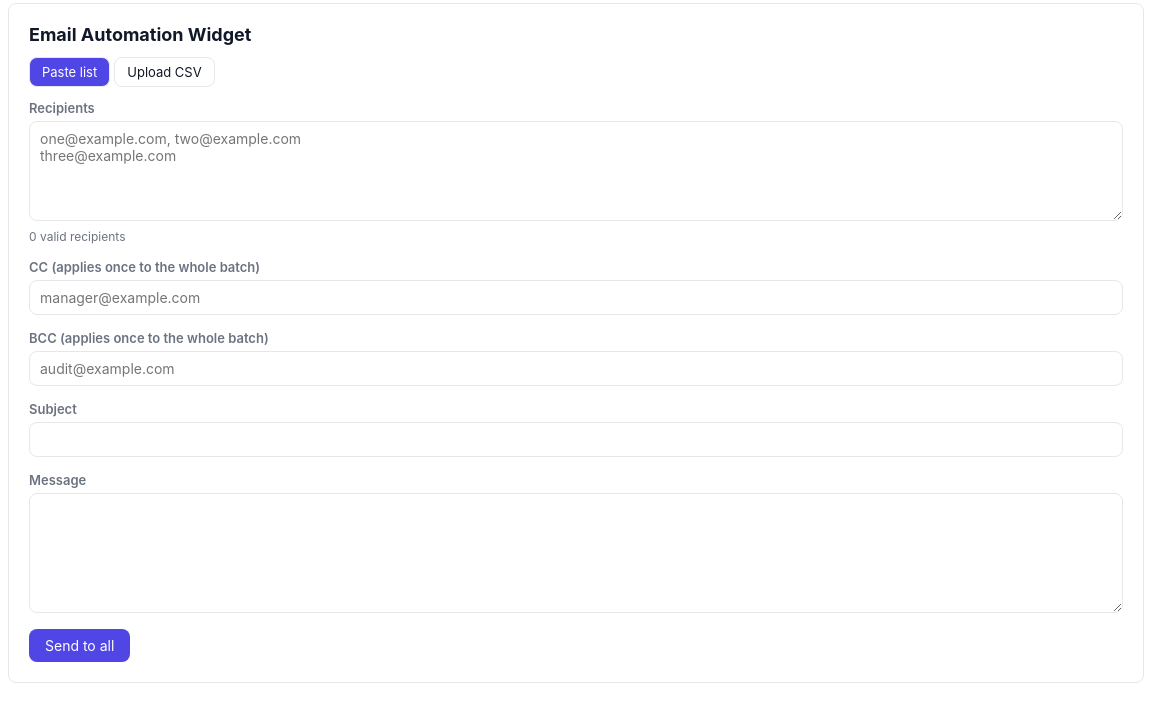
Scenario: EmailAutomationWidget (bulk mode) › shows a per-recipient error list for a partially-failed batch
The width and height of the screenshot is (1152, 715).
Type "a@x.com, b@x.com" into the text box labelled "Recipients". click: point(576, 171)
box: [29,121,1123,221]
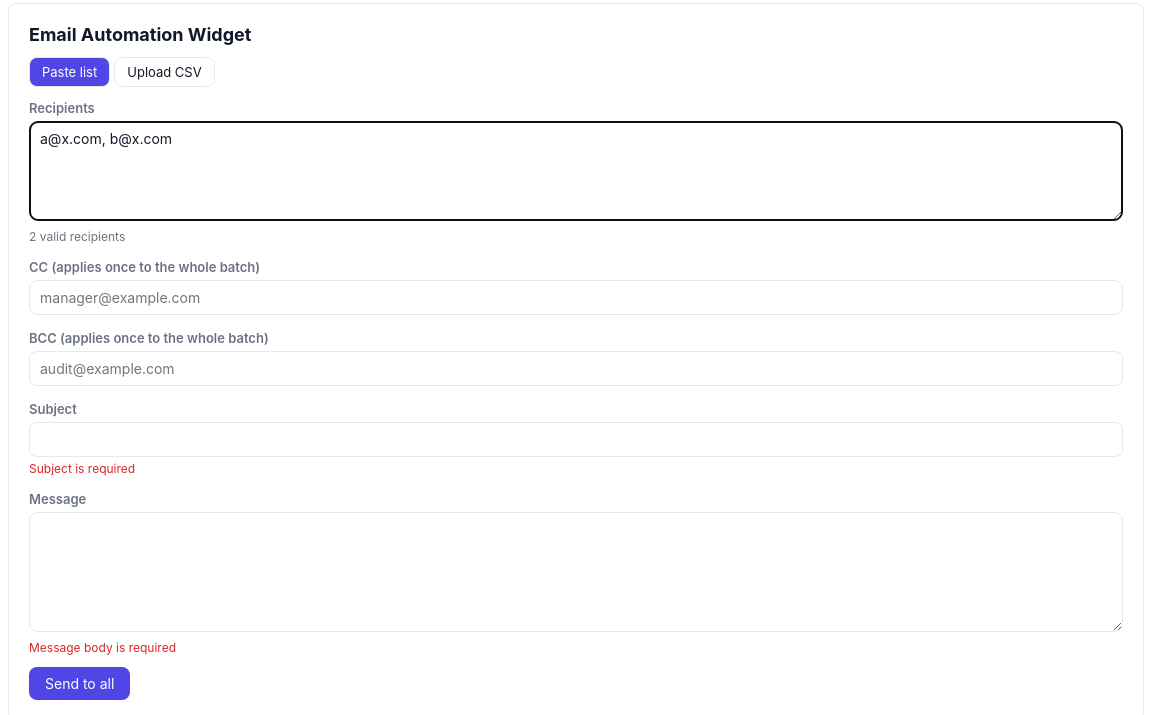
Type "Hello" into the field labelled "Subject". click: point(576, 440)
box: [29,422,1123,457]
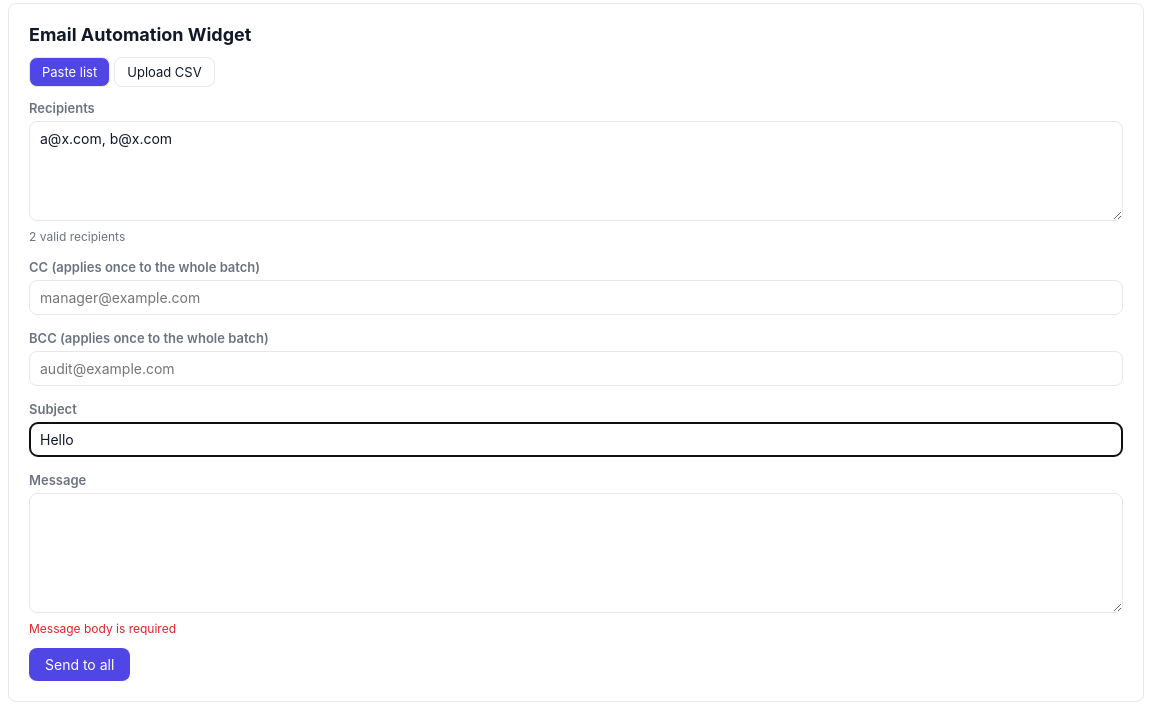
Type "Test message" into the text box labelled "Message". click: point(576, 553)
box: [29,493,1123,613]
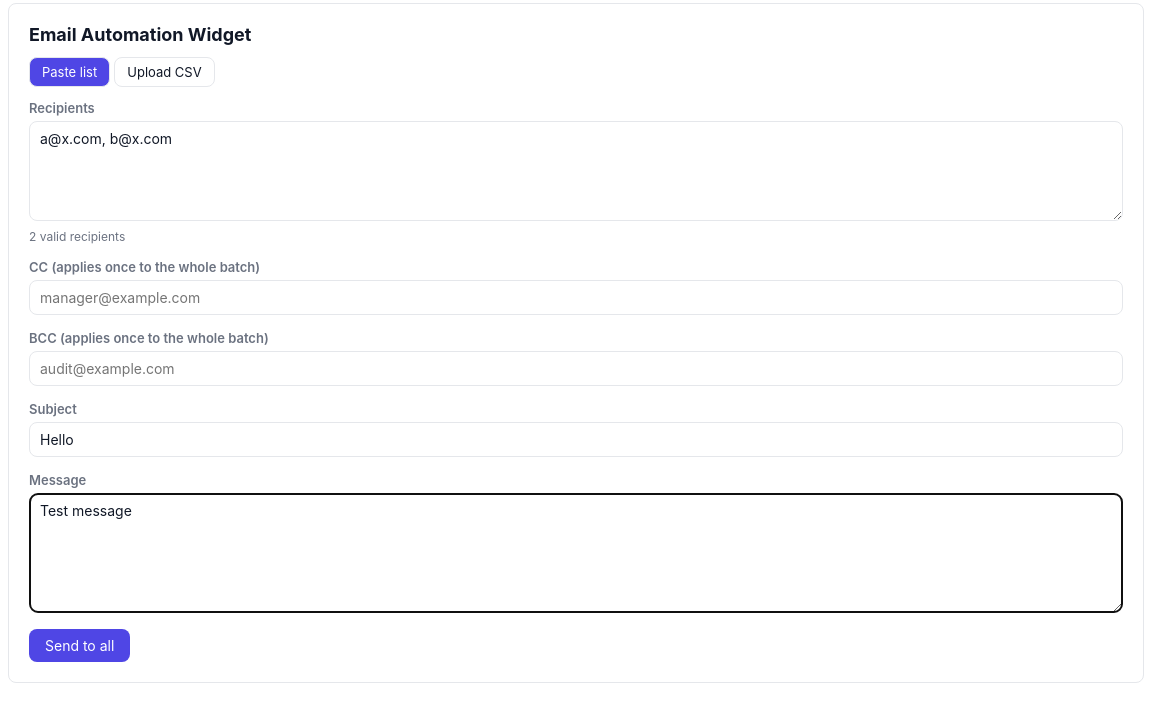
Click the button "Send to all". click: point(80, 646)
box: [29,629,130,662]
(page scrolled)
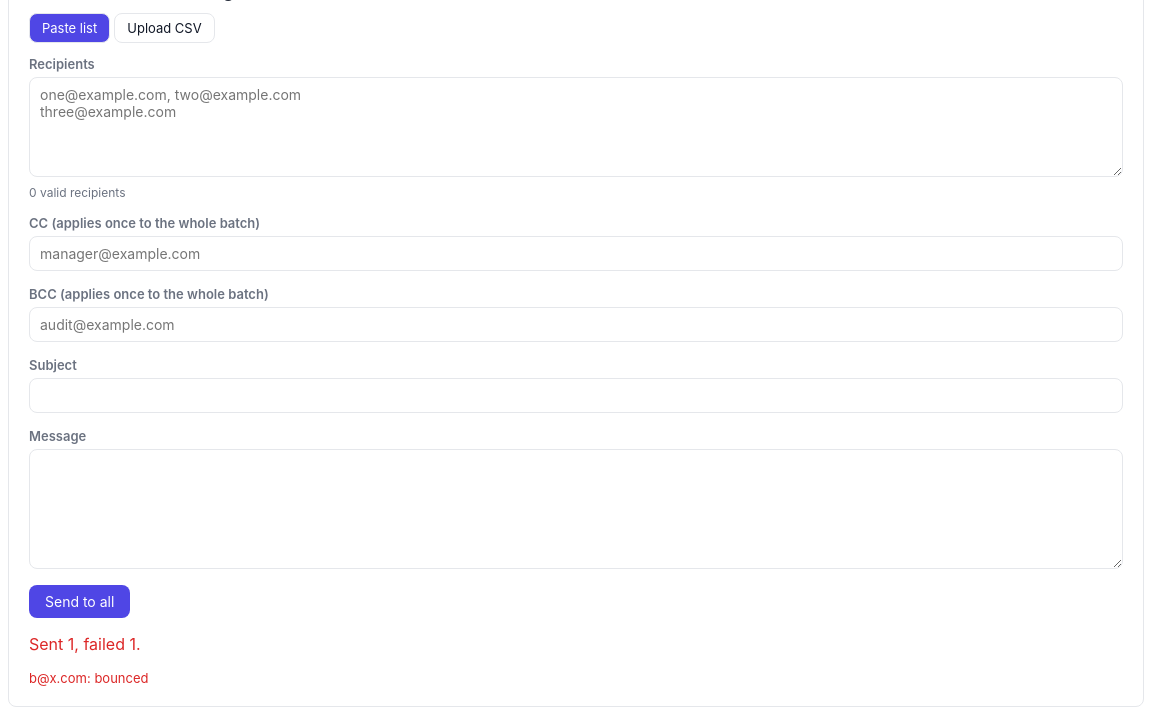
Expected: the text "Sent 1, failed 1." is shown, [29,634,141,654]
Expected: the list item "b@x.com: bounced" is shown, [29,670,148,686]
